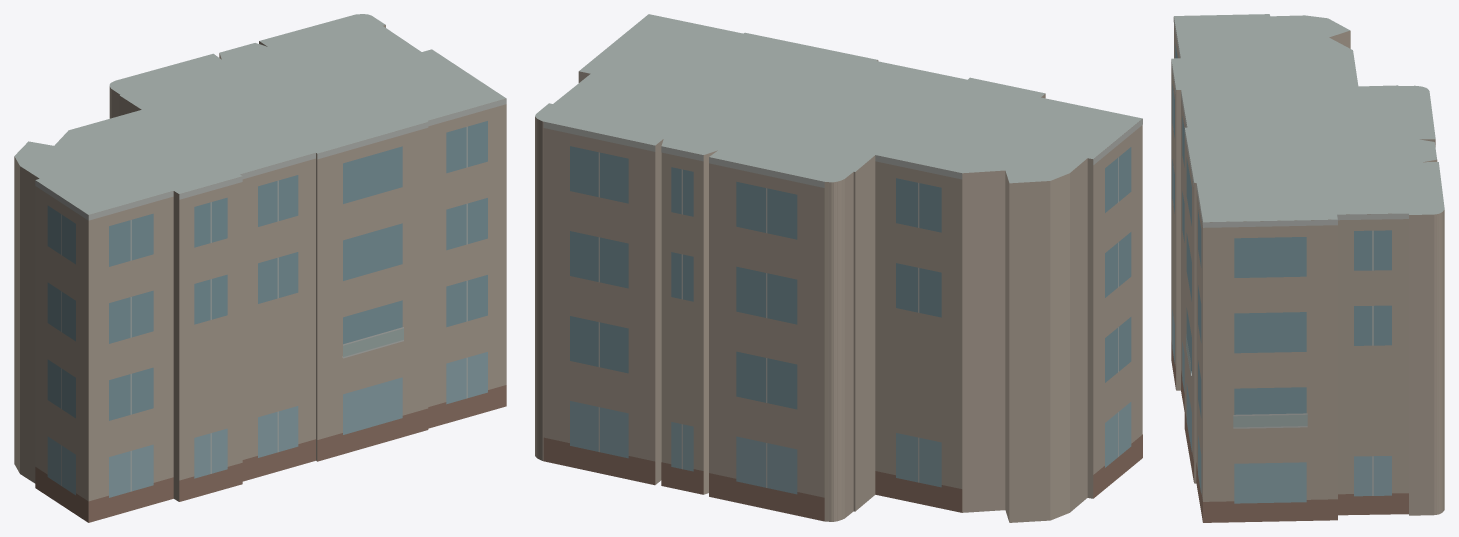
The model's file is survey-upis-32667660.glb.
The picture shows the model from 3 angles, left to right: view 1: azimuth 30°, elevation 25°; view 2: azimuth 150°, elevation 25°; view 3: azimuth 270°, elevation 25°; orthographic projection. The views are drawn at different scales.
Visible parts, largest first — view 1: survey-upis-32667660.tmp; view 2: survey-upis-32667660.tmp; view 3: survey-upis-32667660.tmp.
Part boxes in pixels (x1,y1,x2,y2): survey-upis-32667660.tmp: (14,14,506,522); survey-upis-32667660.tmp: (535,14,1142,522); survey-upis-32667660.tmp: (1171,14,1444,522).
Size of the model in its own units: 19.47 by 13.1 by 10.81.
